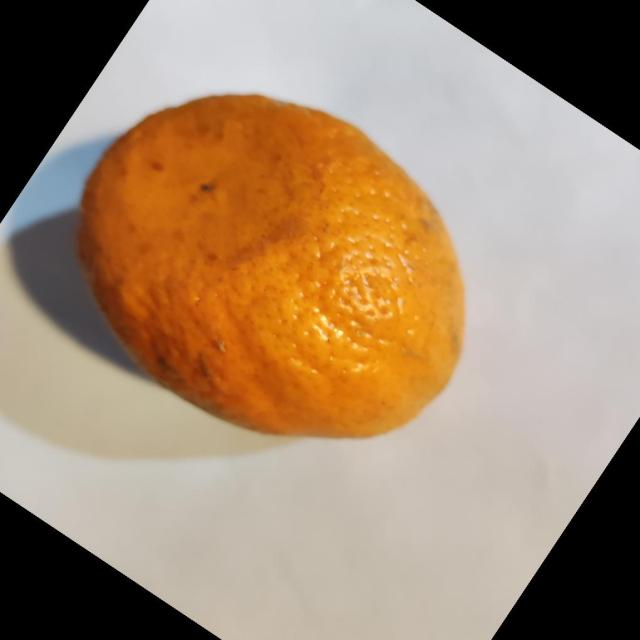fresh orange: (75, 91, 467, 439)
